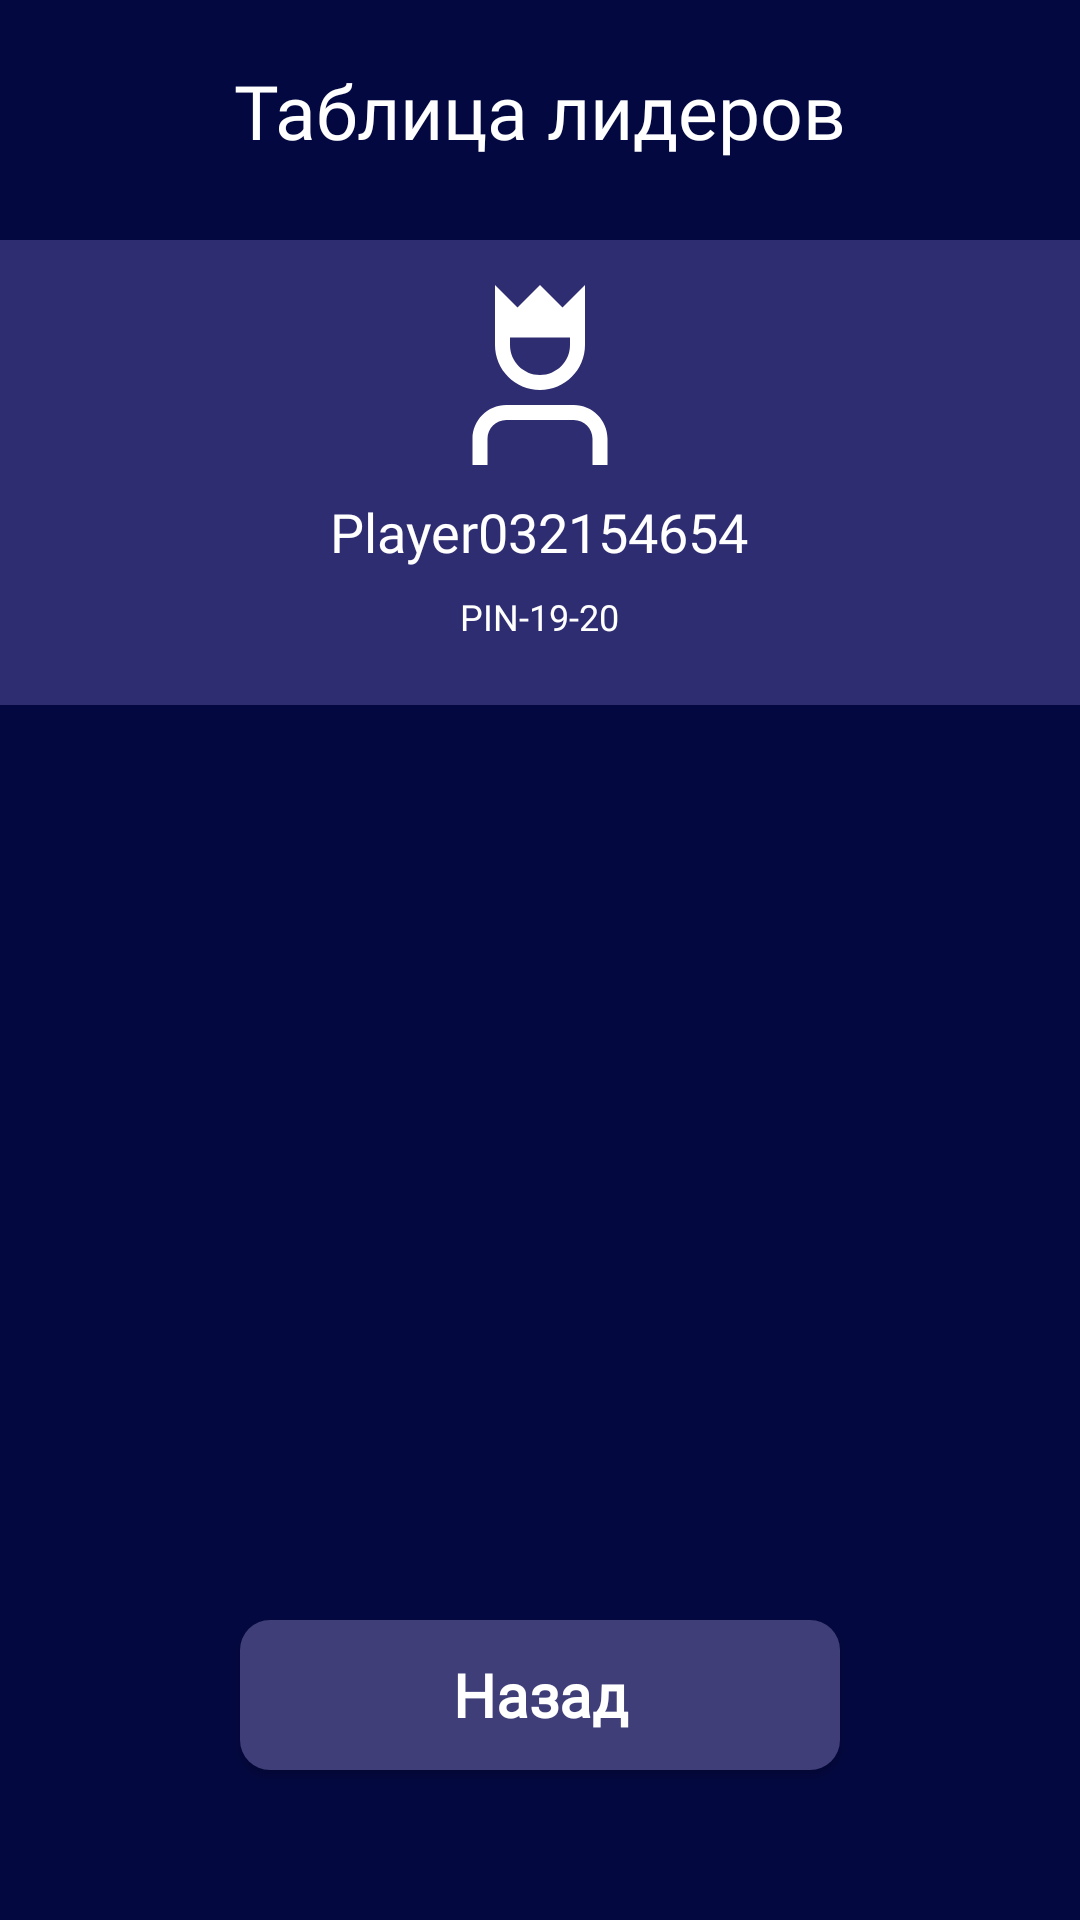

Icon bounding boxes for this 1080*1920 phone screenshot, format detection(x1, y1, x2, y2):
best user: detection(472, 285, 608, 465)
